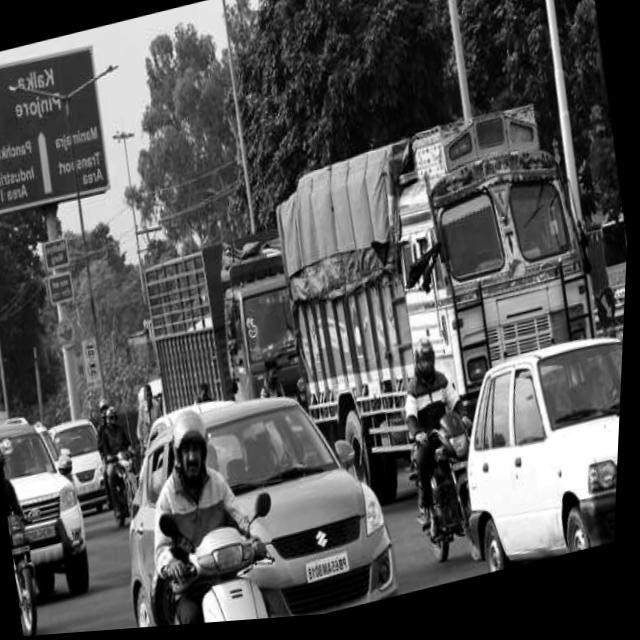cleat: (0, 251, 626, 637)
